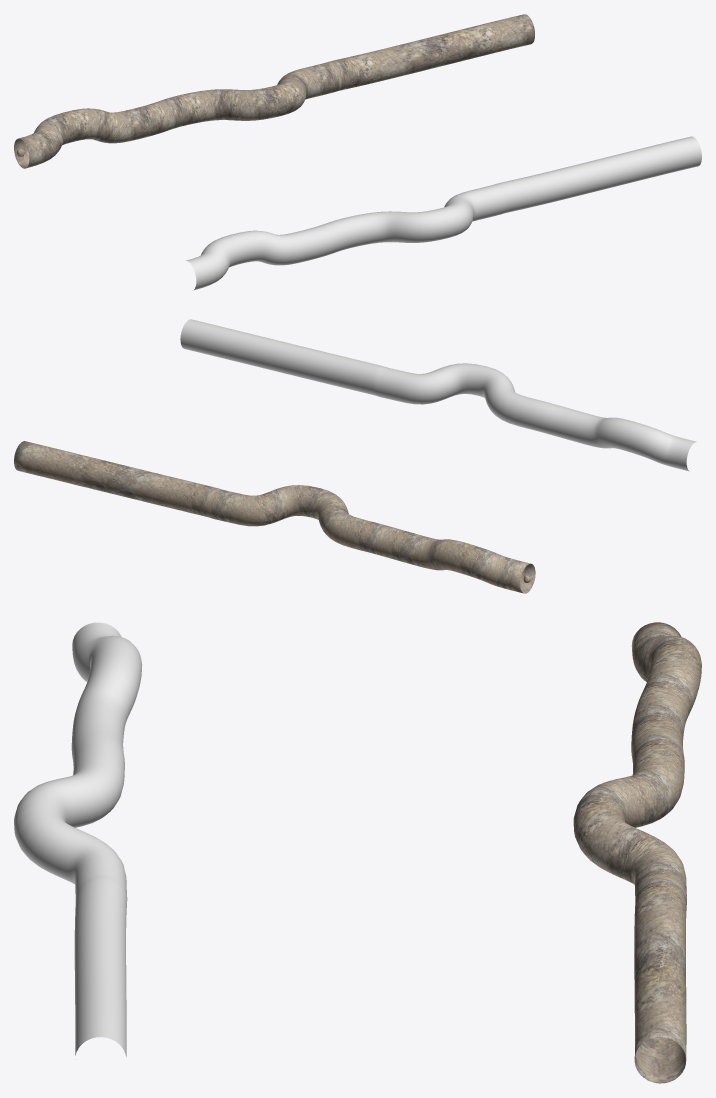
File: large_asteroid.glb
3 views of the same model, one above another, from view 1: azimuth 30°, elevation 25°; view 2: azimuth 150°, elevation 25°; view 3: azimuth 270°, elevation 25° (orthographic). The views are drawn at different scales.
Parts seen in each view (by area): view 1: BezierCurve.001, BezierCurve.002-noimp; view 2: BezierCurve.001, BezierCurve.002-noimp; view 3: BezierCurve.001, BezierCurve.002-noimp.
Boxes of the visible parts, x1,y1,x2,y2 form: BezierCurve.001: (14, 14, 534, 168); BezierCurve.002-noimp: (185, 136, 701, 290); BezierCurve.001: (14, 441, 535, 593); BezierCurve.002-noimp: (180, 319, 696, 471); BezierCurve.001: (573, 622, 701, 1083); BezierCurve.002-noimp: (14, 622, 142, 1059).
Bounding box in the file's own units: 229 × 16.35 × 160.
Materials: 2 (2 with a texture image).
